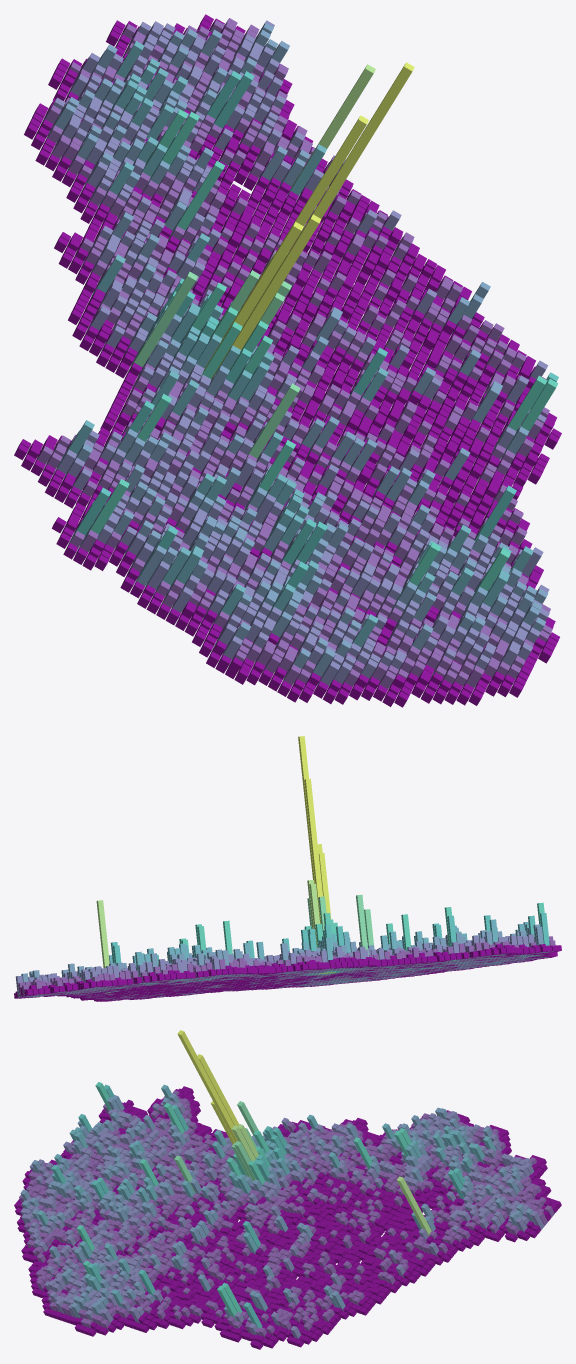
The model's file is place_of_worship.gltf.
3 views of the same model, one above another, from view 1: azimuth 30°, elevation 25°; view 2: azimuth 150°, elevation 25°; view 3: azimuth 270°, elevation 25° (orthographic). The views are drawn at different scales.
Parts seen in each view (by area): view 1: Object.010, Object.011, Object.012, Object.013, Object.014, Object.016, Object.019, Object.015, Object.017, Object.018; view 2: Object.010, Object.011, Object.012, Object.013, Object.014, Object.015, Object.019, Object.016, Object.018, Object.017; view 3: Object.010, Object.011, Object.012, Object.013, Object.014, Object.016, Object.015, Object.019, Object.017, Object.018.
Boxes of the visible parts, x1,y1,x2,y2 form: Object.010: (14, 14, 561, 707); Object.011: (33, 18, 552, 689); Object.012: (41, 20, 549, 688); Object.013: (46, 23, 548, 682); Object.014: (55, 41, 533, 647); Object.016: (78, 109, 558, 614); Object.019: (203, 62, 414, 379); Object.015: (69, 71, 558, 615); Object.017: (127, 270, 300, 462); Object.018: (222, 64, 375, 338); Object.010: (14, 944, 561, 1001); Object.011: (18, 936, 555, 1000); Object.012: (15, 934, 549, 1000); Object.013: (21, 924, 543, 998); Object.014: (109, 919, 533, 992); Object.015: (111, 913, 549, 997); Object.019: (298, 736, 335, 973); Object.016: (179, 902, 547, 994); Object.018: (96, 880, 324, 992); Object.017: (307, 894, 375, 974); Object.010: (14, 1086, 561, 1349); Object.011: (19, 1090, 554, 1338); Object.012: (20, 1096, 544, 1338); Object.013: (20, 1093, 535, 1318); Object.014: (37, 1084, 496, 1307); Object.016: (76, 1082, 411, 1320); Object.015: (51, 1084, 465, 1328); Object.019: (177, 1030, 238, 1144); Object.017: (174, 1101, 258, 1192); Object.018: (231, 1124, 431, 1236).
Size of the model in its own units: 7.01 by 5.44 by 9.34.
